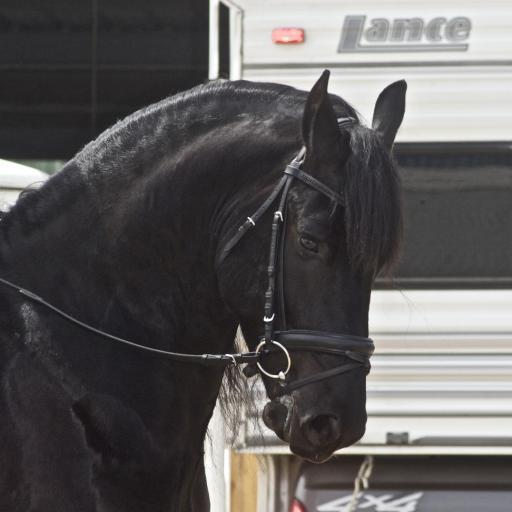horse: (0, 68, 409, 512)
